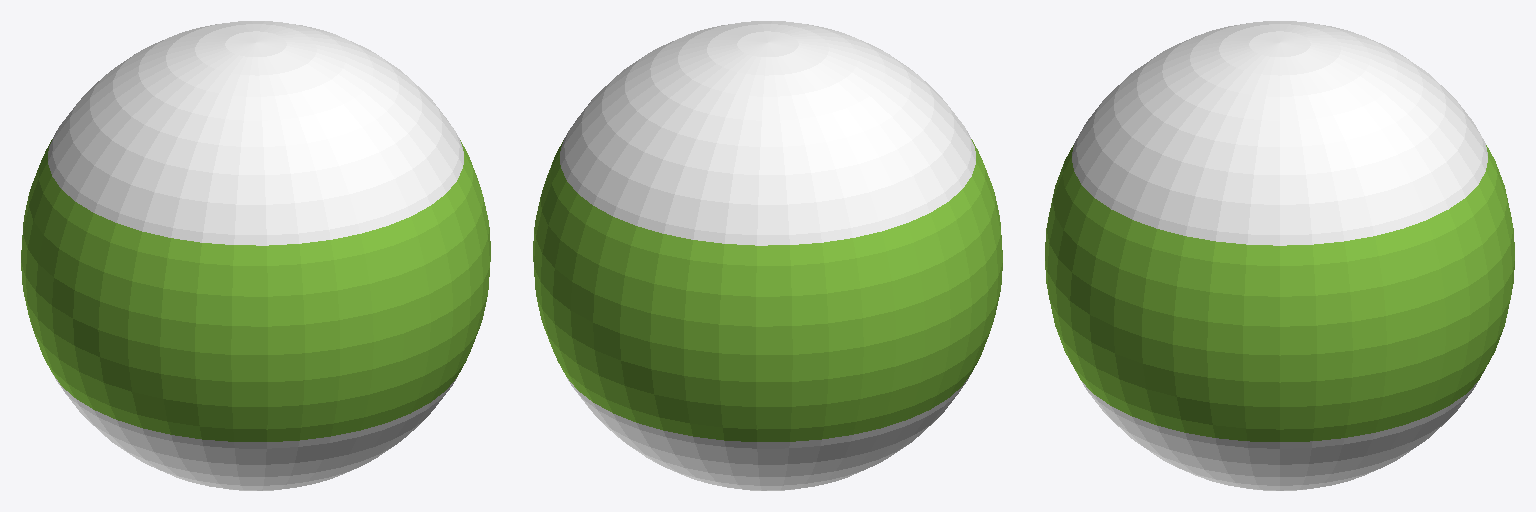
3 views of the same model, side by side, from view 1: azimuth 30°, elevation 25°; view 2: azimuth 150°, elevation 25°; view 3: azimuth 270°, elevation 25° (orthographic).
Parts seen in each view (by area): view 1: 球_球.001; view 2: 球_球.001; view 3: 球_球.001.
Part boxes in pixels (x1,y1,x2,y2): 球_球.001: (21, 21, 490, 490); 球_球.001: (533, 21, 1002, 490); 球_球.001: (1045, 21, 1514, 490).
Bounding box in the file's own units: 2 × 2 × 2.
1 materials, 1 textured.